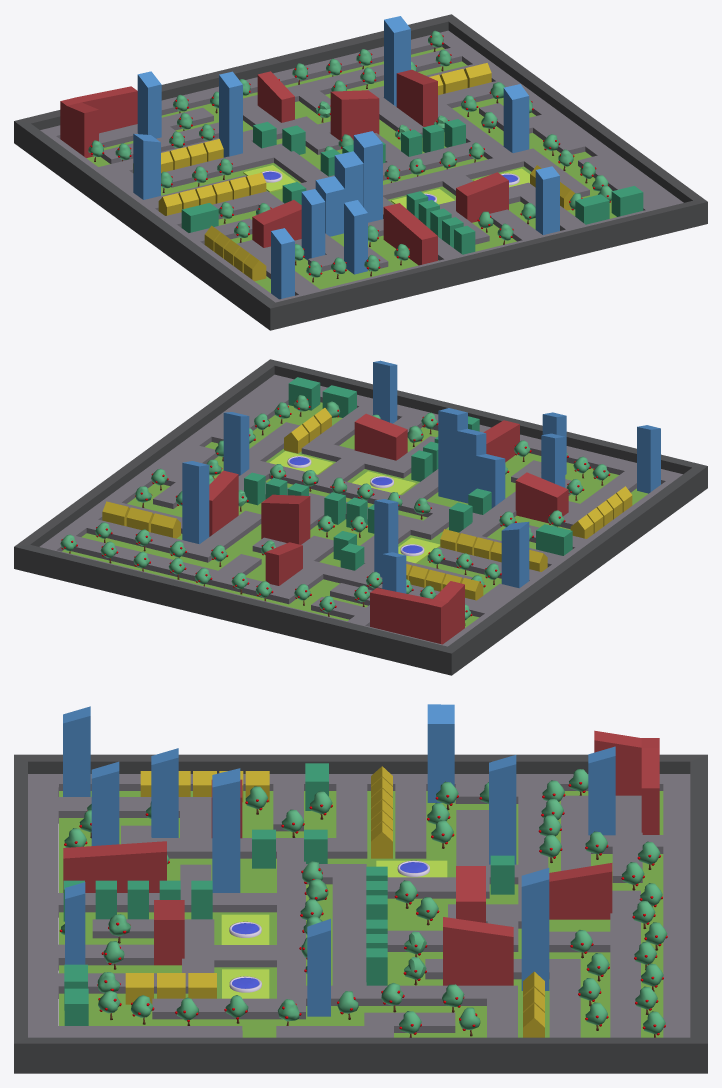
Rendered from City.glb.
3 renders of one model, top to bottom at view 1: azimuth 30°, elevation 25°; view 2: azimuth 150°, elevation 25°; view 3: azimuth 270°, elevation 25°, orthographic. The views are drawn at different scales.
Parts seen in each view (by area): view 1: Border, BuildingBlue, BuildingRed, Grass, BuildingGreen, BuildingYellow, Road.108, Road.128, Road.063, Road.097, Road.008, Road.079 (+13 smaller); view 2: Border, BuildingBlue, BuildingRed, Grass, BuildingGreen, BuildingYellow, Road.128, Road.043, Road.029, Road.041, Road.001, Road.028 (+16 smaller); view 3: Border, Grass, BuildingBlue, BuildingRed, BuildingGreen, BuildingYellow, Road.108, Road.128, Road.029, Road.085, Road.043, Road.001 (+42 smaller).
Part boxes in pixels (<box>): Border: <box>14,14,707,330</box>; BuildingBlue: <box>133,16,559,299</box>; BuildingRed: <box>60,69,508,265</box>; Grass: <box>86,47,616,292</box>; BuildingGreen: <box>181,119,643,254</box>; BuildingYellow: <box>133,63,574,281</box>; Road.108: <box>46,35,442,138</box>; Road.128: <box>308,48,461,94</box>; Road.063: <box>161,153,254,187</box>; Road.097: <box>598,151,669,196</box>; Road.008: <box>383,173,442,199</box>; Road.079: <box>578,155,653,199</box>; Border: <box>14,359,707,675</box>; BuildingBlue: <box>182,360,660,593</box>; BuildingRed: <box>209,413,568,644</box>; Grass: <box>62,402,648,627</box>; BuildingGreen: <box>244,377,572,570</box>; BuildingYellow: <box>102,408,632,600</box>; Road.128: <box>71,536,217,584</box>; Road.043: <box>86,519,198,557</box>; Road.029: <box>520,434,635,474</box>; Road.041: <box>200,510,261,549</box>; Road.001: <box>249,422,299,461</box>; Road.028: <box>580,471,636,507</box>; Border: <box>14,754,707,1073</box>; Grass: <box>59,791,663,1037</box>; BuildingBlue: <box>63,704,615,1016</box>; BuildingRed: <box>63,730,659,985</box>; BuildingGreen: <box>63,763,514,1025</box>; BuildingYellow: <box>125,766,544,1037</box>; Road.108: <box>663,784,690,1037</box>; Road.128: <box>610,945,640,1037</box>; Road.029: <box>28,811,58,892</box>; Road.085: <box>395,784,426,858</box>; Road.043: <box>549,972,580,1037</box>; Road.001: <box>152,998,276,1019</box>.
Bounding box in the file's own units: 16981 × 3470 × 17220.
